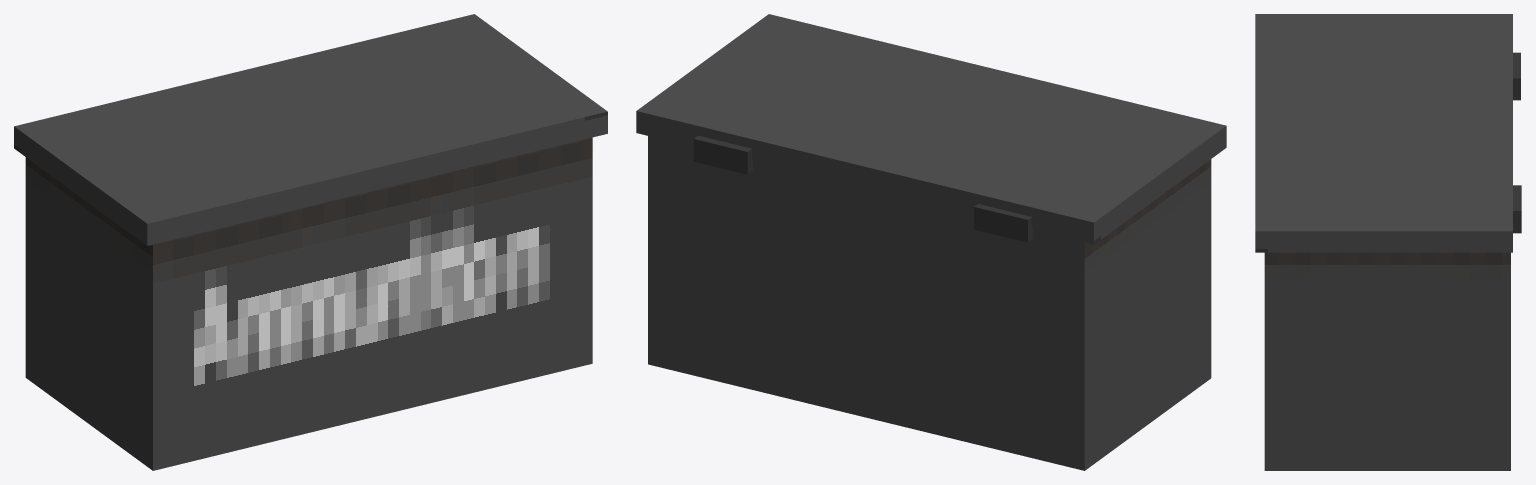
The model's file is AmmunitionBox.fbx.
3 renders of one model, left to right at view 1: azimuth 30°, elevation 25°; view 2: azimuth 150°, elevation 25°; view 3: azimuth 270°, elevation 25°, orthographic. The views are drawn at different scales.
Visible parts, largest first — view 1: weaponCase; view 2: weaponCase; view 3: weaponCase.
Part boxes in pixels (box(x1,y1,x2,y2)): weaponCase: box(14, 14, 607, 470); weaponCase: box(636, 14, 1226, 470); weaponCase: box(1255, 14, 1521, 470).
Size of the model in its own units: 417 by 219 by 216.
